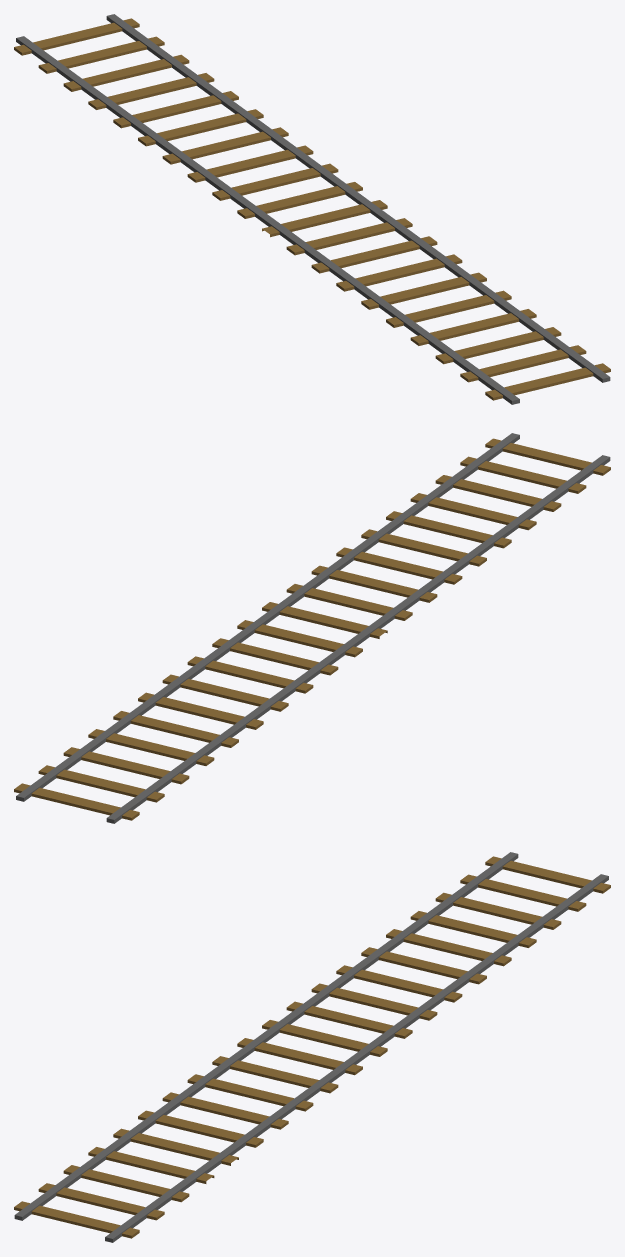
Rendered from Track.fbx.
3 renders of one model, top to bottom at view 1: azimuth 30°, elevation 25°; view 2: azimuth 150°, elevation 25°; view 3: azimuth 330°, elevation 25°, orthographic.
Visible parts, largest first — view 1: Track; view 2: Track; view 3: Track.
Boxes of the visible parts, <box> form: Track: <box>14,14,610,404</box>; Track: <box>14,433,610,823</box>; Track: <box>14,852,610,1242</box>.
Size of the model in its own units: 274 by 8.73 by 2000.
